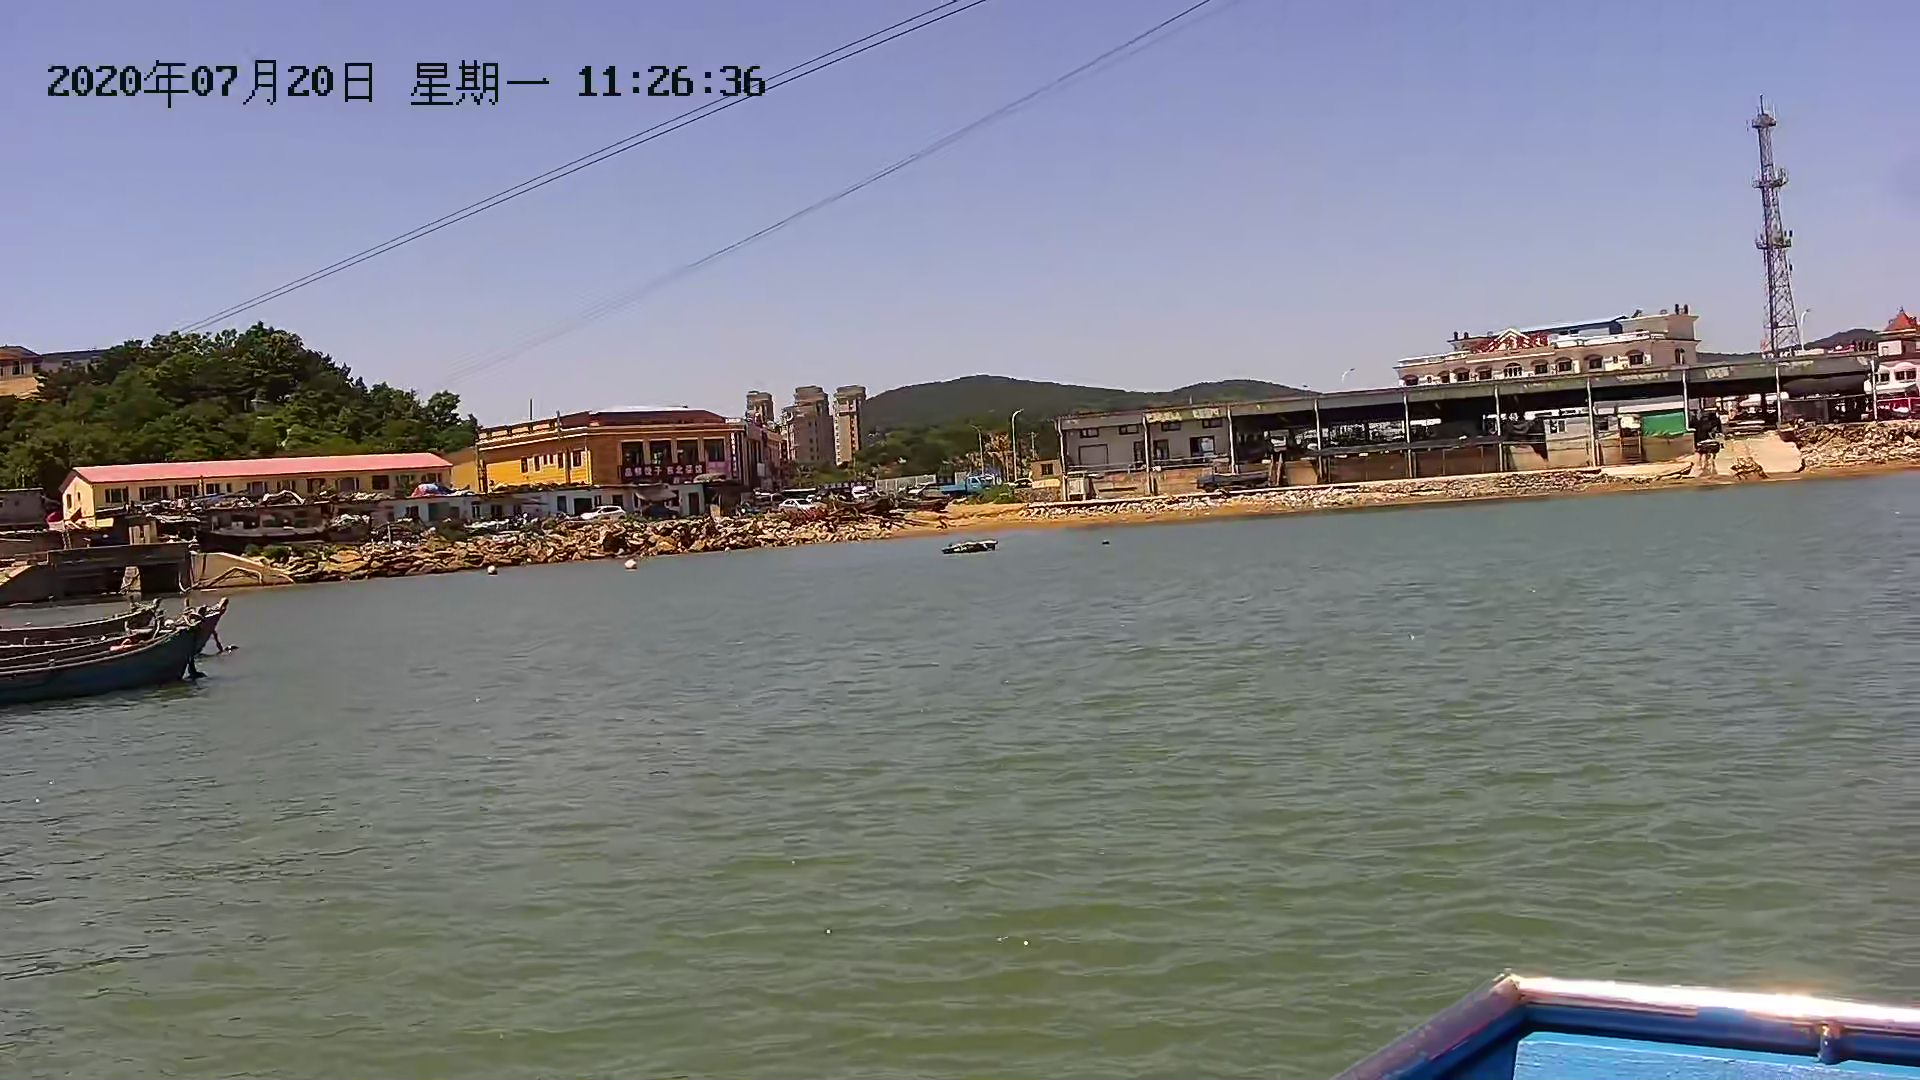boat: (1, 575, 247, 713)
rubbish: (940, 541, 1006, 556)
